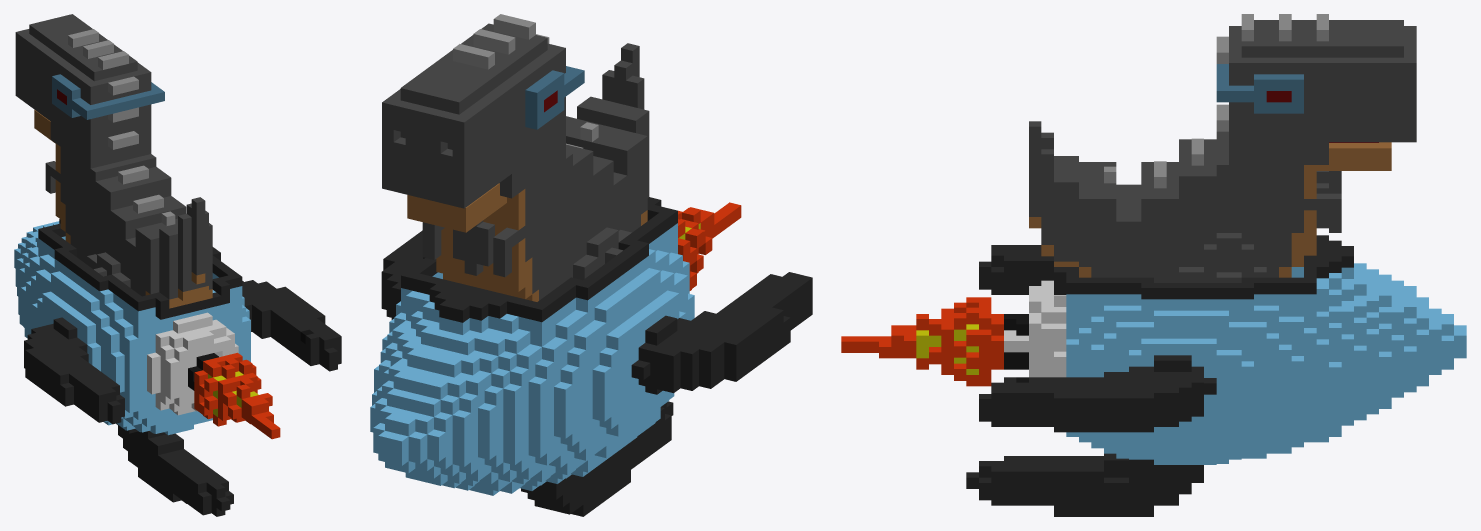
File: RocketDino.glb
3 views of the same model, side by side, from view 1: azimuth 30°, elevation 25°; view 2: azimuth 150°, elevation 25°; view 3: azimuth 270°, elevation 25° (orthographic). The views are drawn at different scales.
Parts seen in each view (by area): view 1: RocketDino; view 2: RocketDino; view 3: RocketDino.
Part boxes in pixels (x1,y1,x2,y2): RocketDino: (14,14,341,516); RocketDino: (370,14,812,516); RocketDino: (841,14,1466,516).
Size of the model in its own units: 1.5 by 2.15 by 2.5.
Materials: 3 (3 with a texture image).
